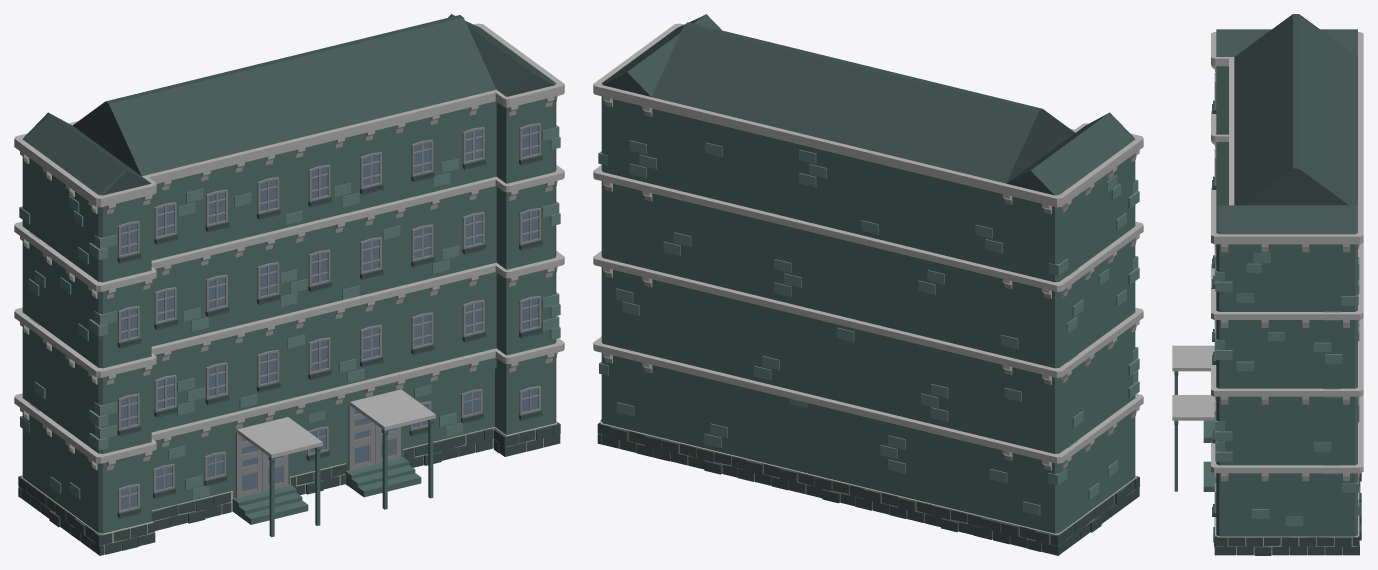
The model's file is quaternius-buildings-pack-3-4-story-wide-2-doors-roof-mat.glb.
The picture shows the model from 3 angles, left to right: view 1: azimuth 30°, elevation 25°; view 2: azimuth 150°, elevation 25°; view 3: azimuth 270°, elevation 25°; orthographic projection. The views are drawn at different scales.
Parts seen in each view (by area): view 1: 4Story_Wide_2Doors_Roof_Mat; view 2: 4Story_Wide_2Doors_Roof_Mat; view 3: 4Story_Wide_2Doors_Roof_Mat.
Part boxes in pixels (x1,y1,x2,y2): 4Story_Wide_2Doors_Roof_Mat: (14,14,564,555); 4Story_Wide_2Doors_Roof_Mat: (593,14,1143,555); 4Story_Wide_2Doors_Roof_Mat: (1172,14,1363,555).
Size of the model in its own units: 6.83 by 5.68 by 2.7.
Materials: 1 (1 with a texture image).
